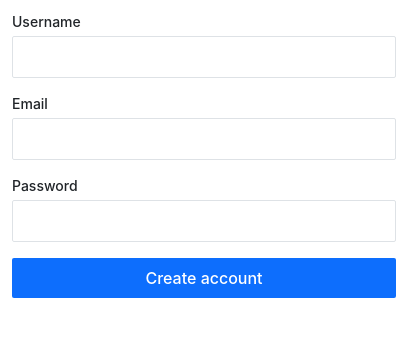
RegisterForm › shows error for invalid email format
Type "testuser" into the field labelled "Username".
click(204, 57); type("testuser")  # box [12,36,396,78]
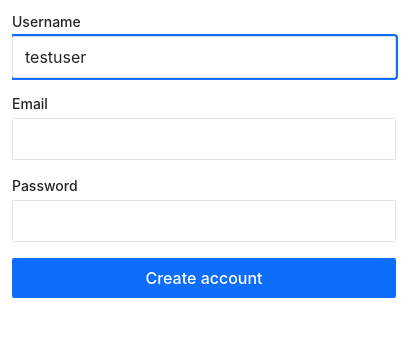
Type "not-an-email" into the field labelled "Email".
click(204, 139); type("not-an-email")  # box [12,118,396,160]
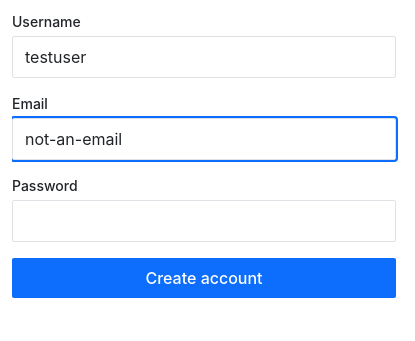
Type "password123" into the password field labelled "Password".
click(204, 221); type("password123")  # box [12,200,396,242]
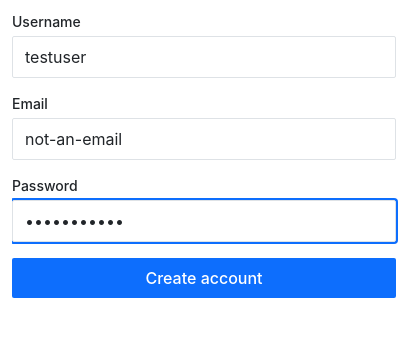
Click the button "Create account".
click(204, 278)  # box [12,258,396,298]
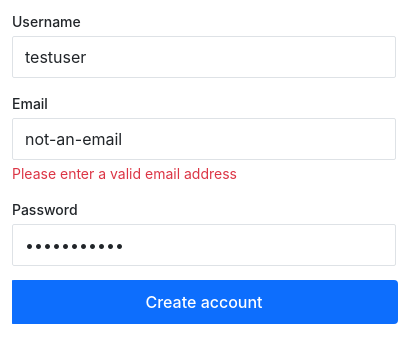
Now the text "Please enter a valid email address" is shown, box [12,165,237,182]
